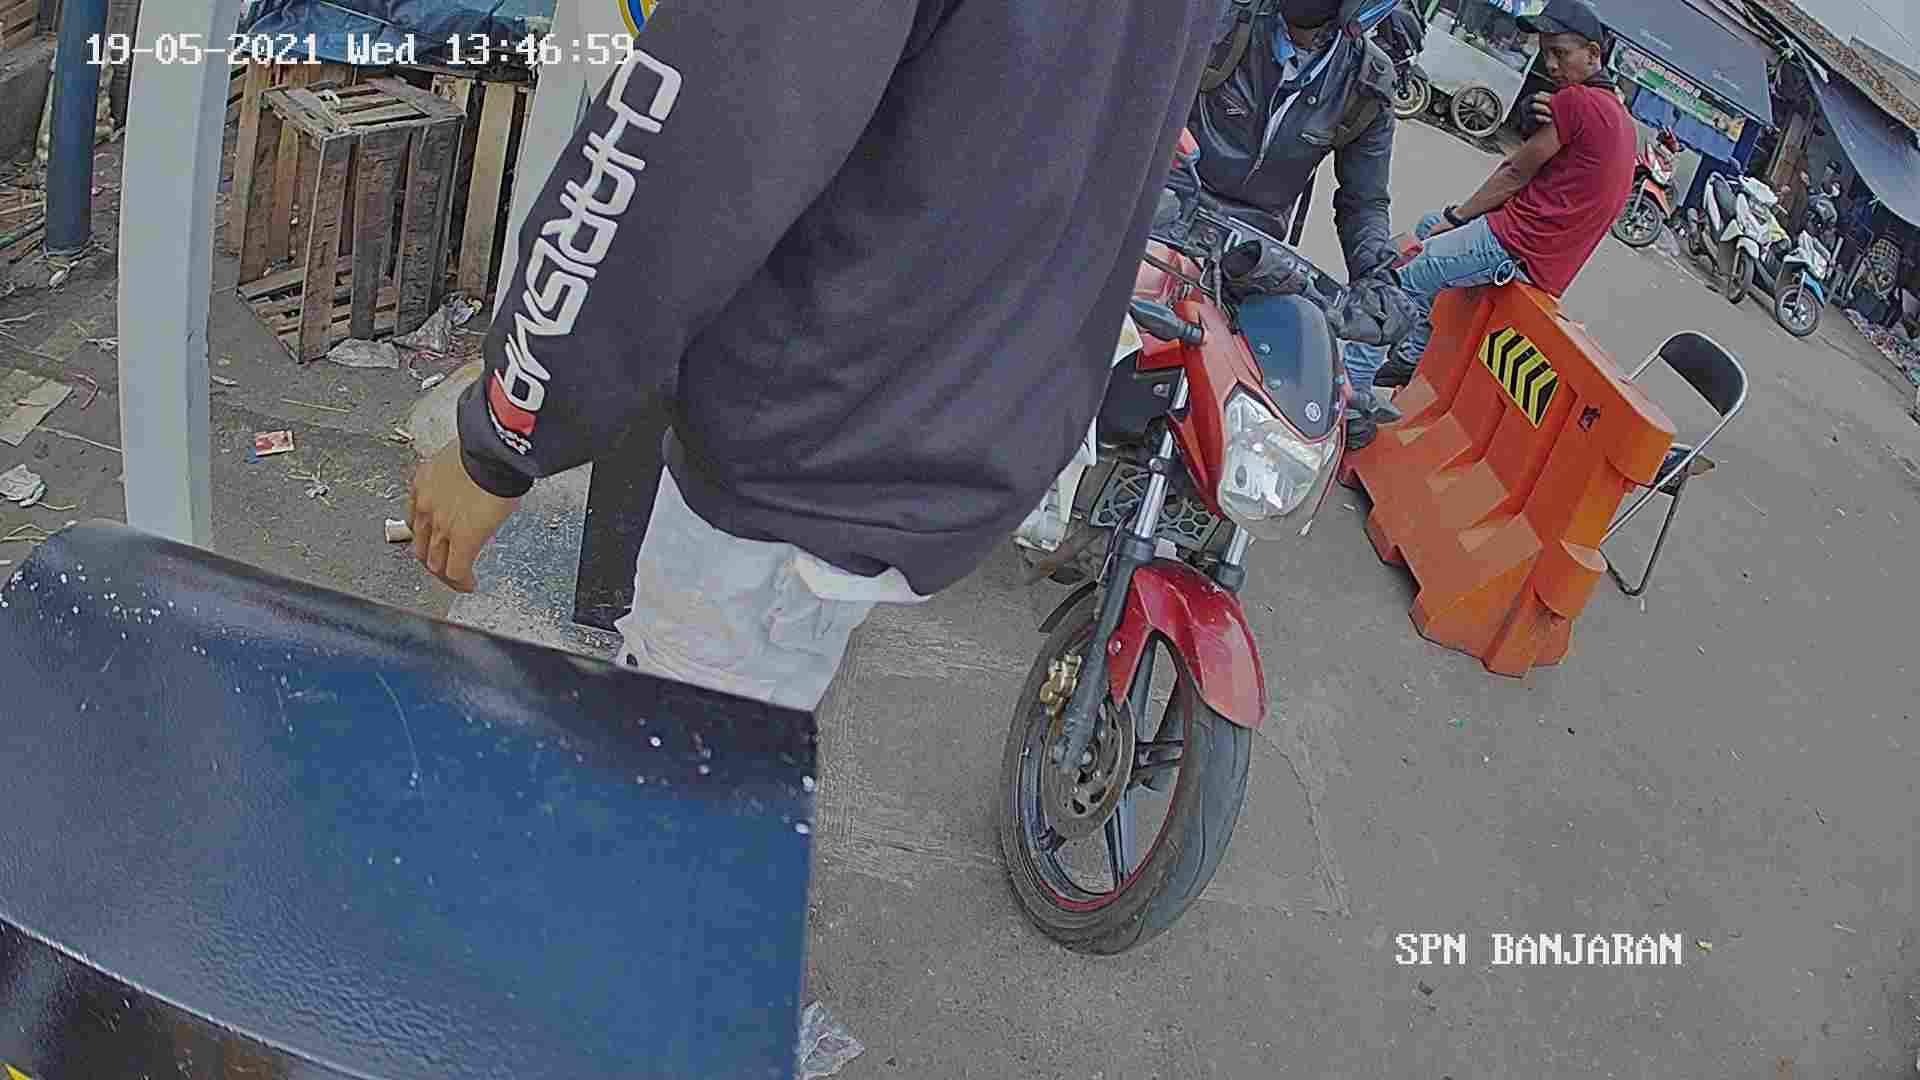motor: (1000, 190, 1300, 936)
